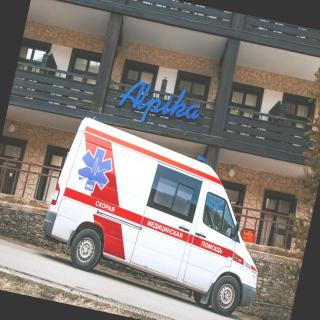Ambulance: (27, 98, 295, 320)
